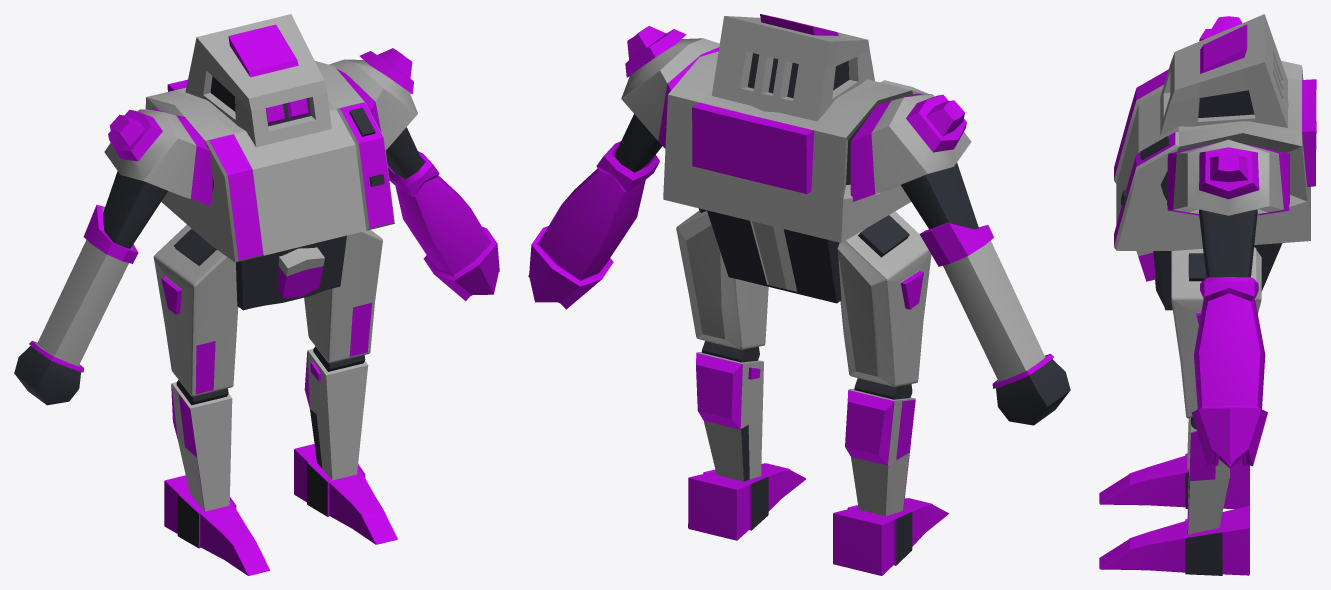
The model's file is RobotListo.fbx.
The picture shows the model from 3 angles, left to right: view 1: azimuth 30°, elevation 25°; view 2: azimuth 150°, elevation 25°; view 3: azimuth 270°, elevation 25°; orthographic projection. The views are drawn at different scales.
Visible parts, largest first — view 1: pelvis; view 2: pelvis; view 3: pelvis.
Boxes of the visible parts, x1=… form: pelvis: x1=14, y1=14, x2=499, y2=575; pelvis: x1=528, y1=14, x2=1070, y2=575; pelvis: x1=1099, y1=14, x2=1316, y2=575.
Bounding box in the file's own units: 60.74 × 58.16 × 23.09.
